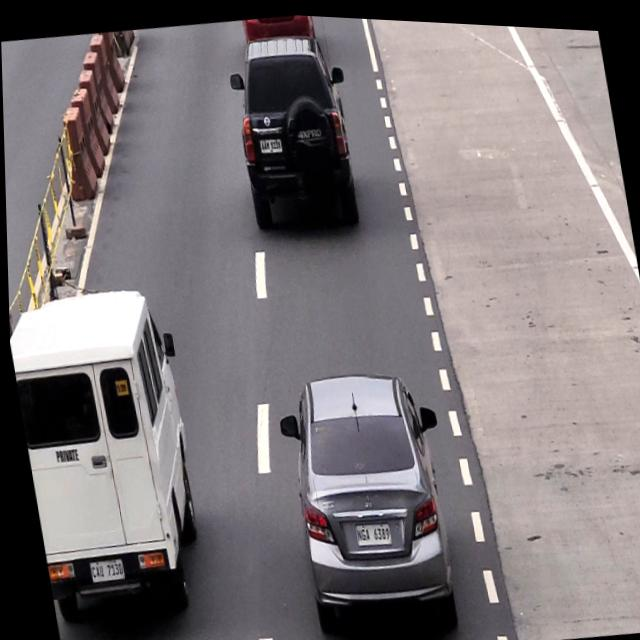Car: (6, 277, 213, 631), (275, 358, 458, 634), (226, 28, 361, 235)
License-Plate: (350, 515, 392, 548), (85, 554, 122, 582), (255, 131, 284, 153)
